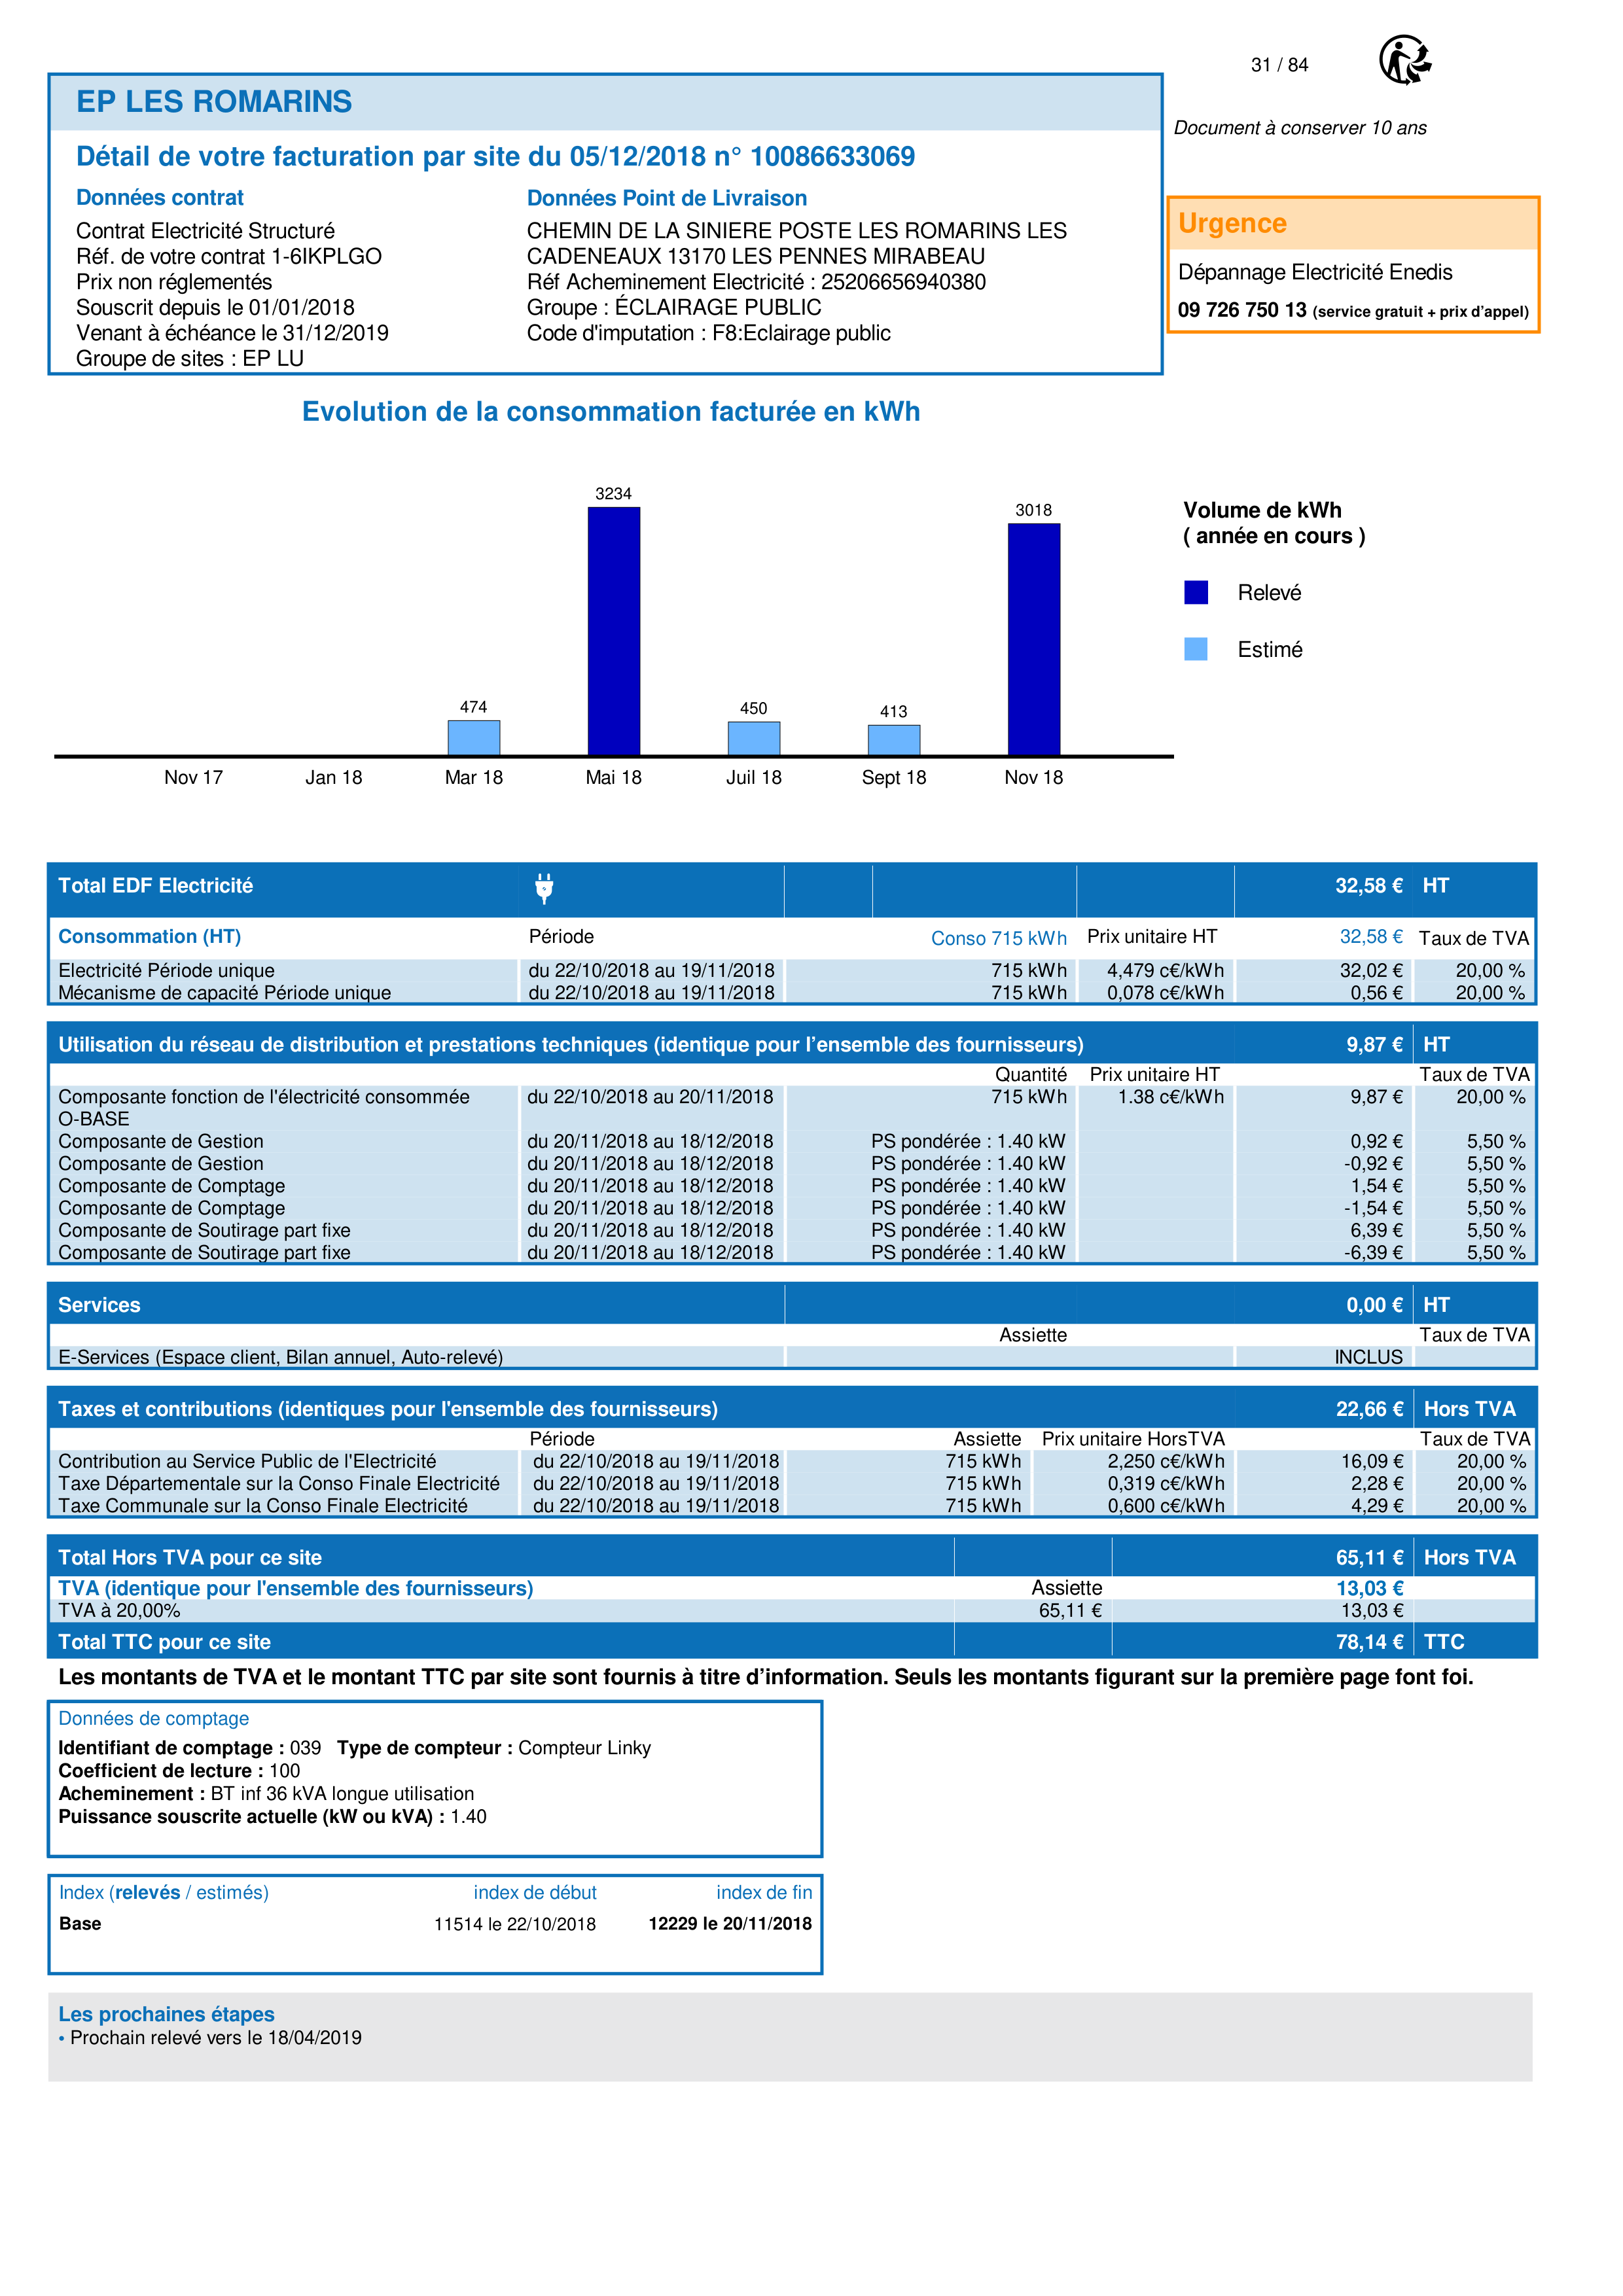area: (48, 1875, 824, 1972)
type_indicator: (50, 1874, 279, 1911)
